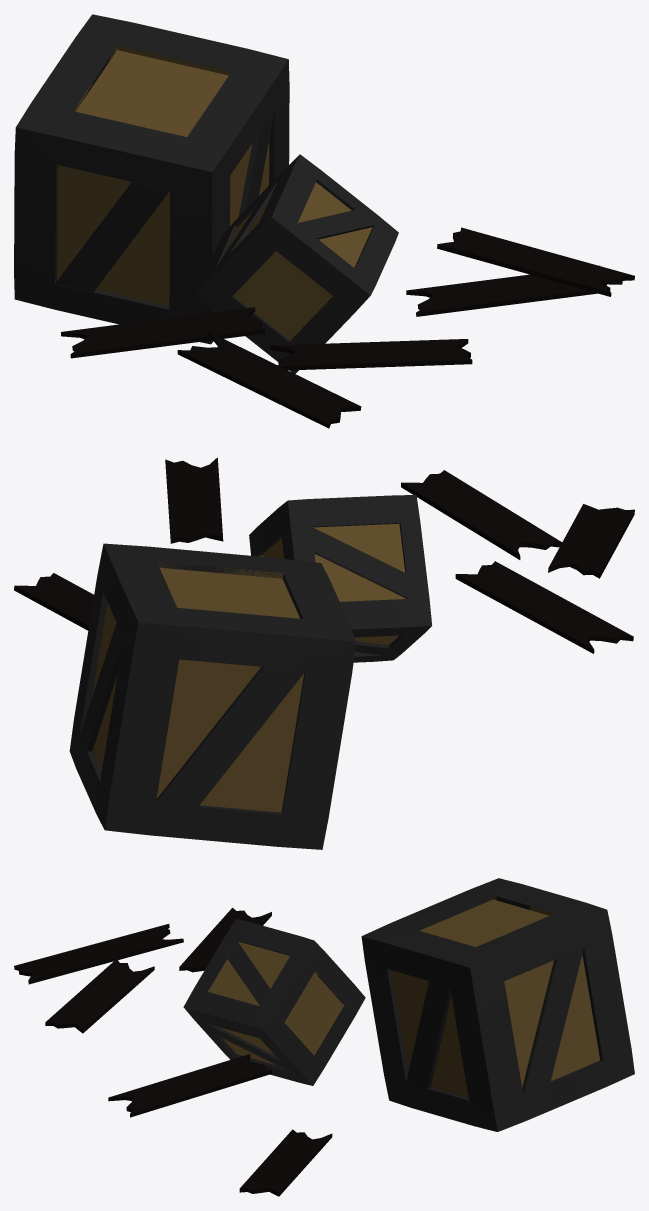
Rendered from Debris 2.FBX.
3 renders of one model, top to bottom at view 1: azimuth 30°, elevation 25°; view 2: azimuth 150°, elevation 25°; view 3: azimuth 270°, elevation 25°, orthographic. The views are drawn at different scales.
Visible parts, largest first — view 1: Crate001, Crate, Driftwood001, Driftwood003, Driftwood, Driftwood002, Driftwood004; view 2: Crate001, Crate, Driftwood003, Driftwood, Driftwood002, Driftwood001, Driftwood004; view 3: Crate001, Crate, Driftwood002, Driftwood001, Driftwood, Driftwood004, Driftwood003.
Boxes of the visible parts, box(x1,y1,x2,y2) form: Crate001: box(14, 14, 289, 344); Crate: box(196, 154, 398, 373); Driftwood001: box(177, 332, 361, 428); Driftwood003: box(61, 307, 264, 358); Driftwood: box(270, 339, 472, 370); Driftwood002: box(437, 227, 634, 296); Driftwood004: box(406, 265, 610, 316); Crate001: box(69, 543, 356, 849); Crate: box(249, 495, 432, 662); Driftwood003: box(455, 561, 633, 653); Driftwood: box(401, 470, 561, 559); Driftwood002: box(165, 457, 223, 543); Driftwood001: box(548, 504, 634, 578); Driftwood004: box(14, 573, 93, 630); Crate001: box(361, 878, 634, 1131); Crate: box(183, 919, 365, 1085); Driftwood002: box(108, 1054, 272, 1117); Driftwood001: box(14, 924, 183, 984); Driftwood: box(45, 959, 154, 1033); Driftwood004: box(239, 1129, 332, 1196); Driftwood003: box(179, 907, 271, 972).
Bounding box in the file's own units: 260 × 103 × 298.
